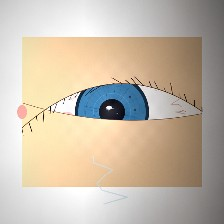foreign_body_visible: (50, 107, 84, 134)
